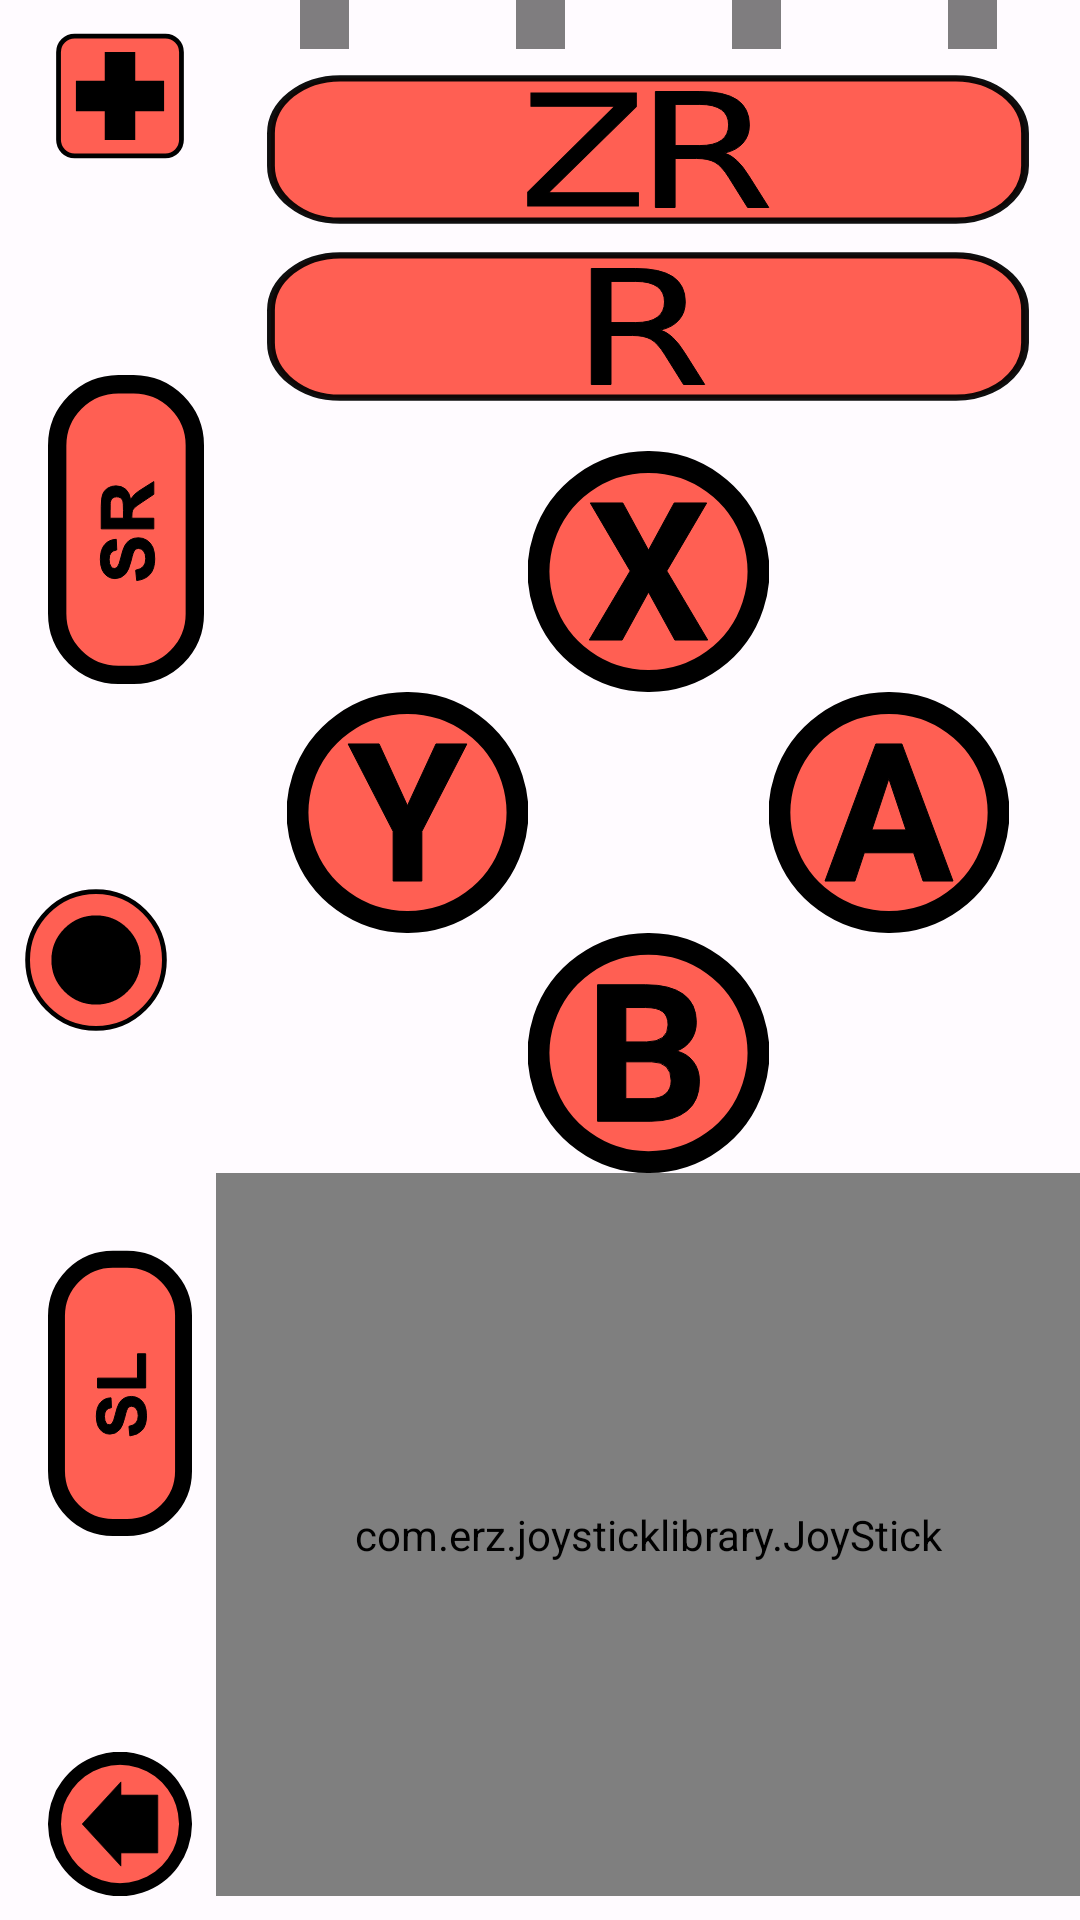

Named icons in this screenshot (1080*1920) and their bounding boxes, (x1=x1, y1=y1, x2=x2, y2=y2):
Plus: (x1=56, y1=33, x2=184, y2=159)
